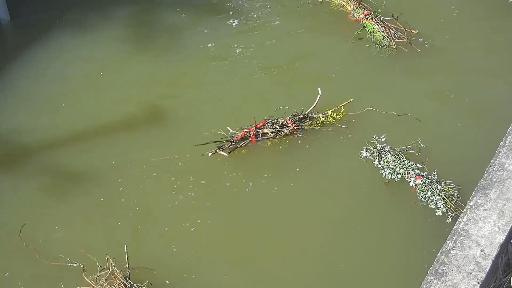twig: (195, 90, 434, 153), (362, 133, 472, 237), (32, 238, 162, 288), (296, 0, 411, 51)
